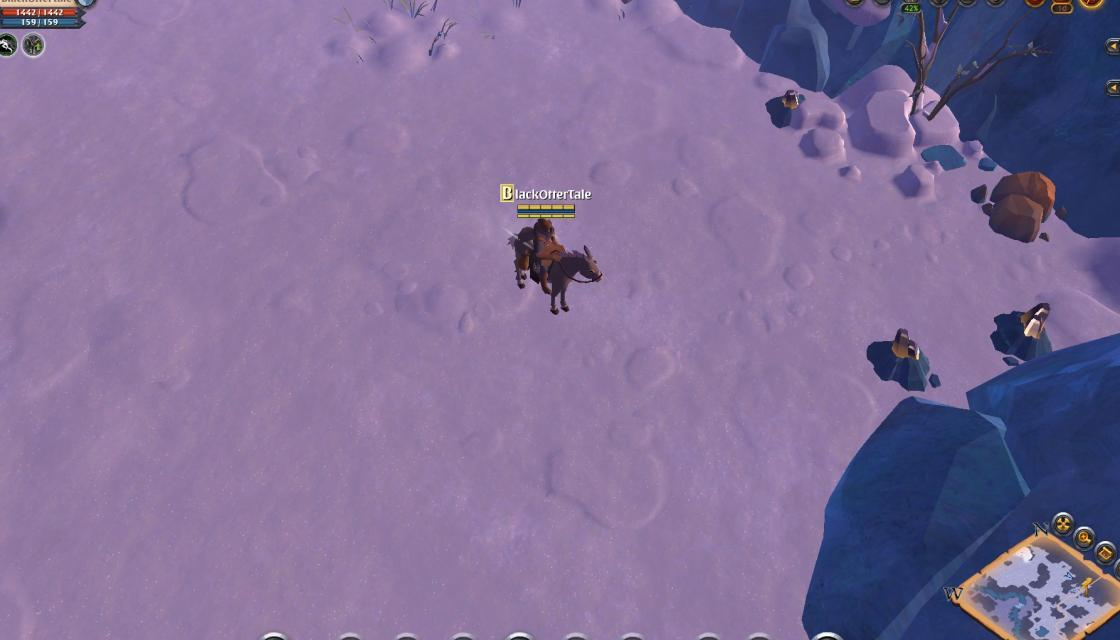copperore: (871, 320, 934, 387), (992, 298, 1060, 359), (760, 88, 812, 126)
limestone: (978, 168, 1060, 240)
